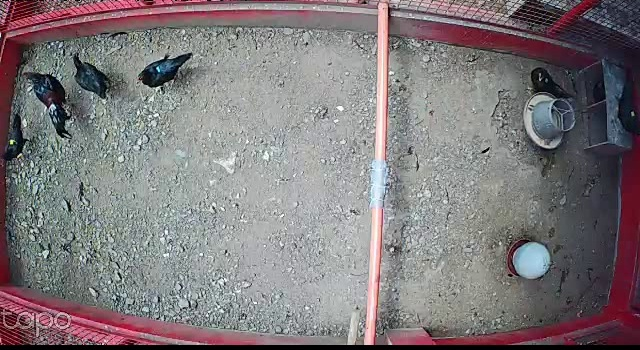Chicken: (64, 50, 113, 100), (137, 47, 190, 92), (0, 110, 42, 165), (523, 61, 574, 103)
Drinker: (506, 234, 552, 281)
Feeder: (522, 88, 577, 149)
Rooster: (20, 70, 80, 141)
Saddle_Color_Blue: (157, 65, 161, 74)
Saddle_Color_Yellow: (9, 138, 16, 146)
